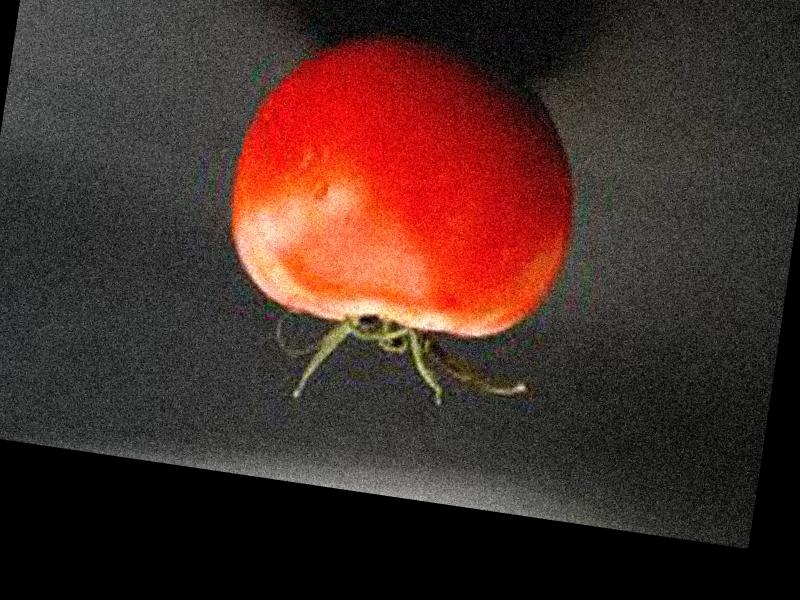Tomato: (213, 18, 591, 350)
